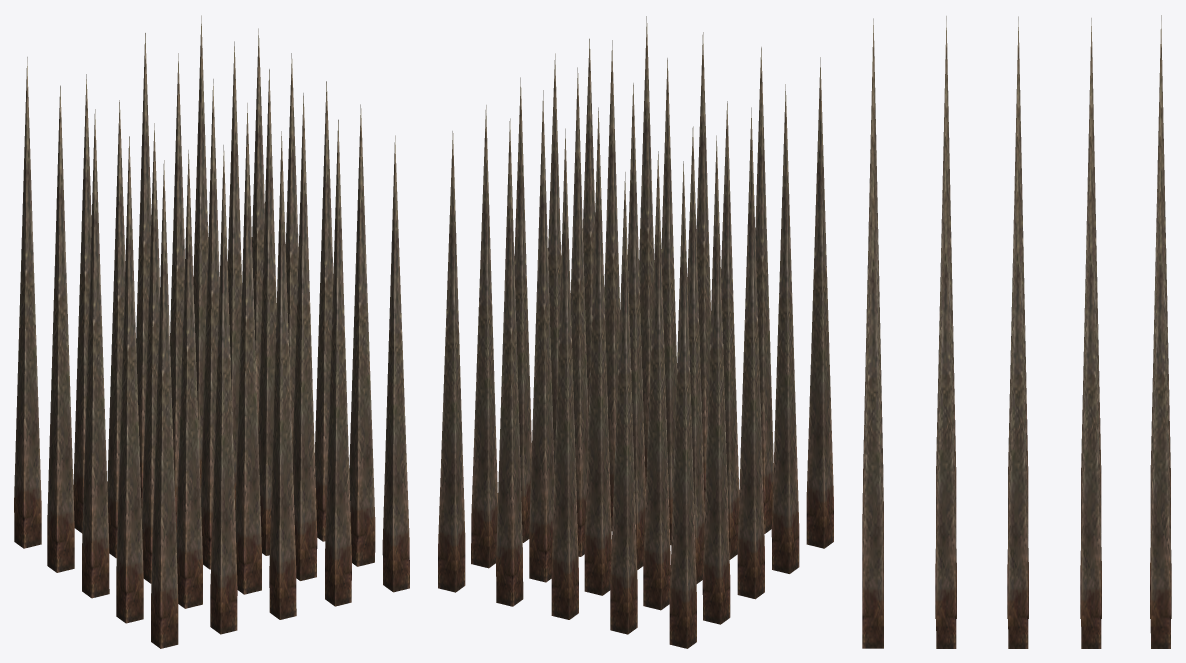
The model's file is SM_Spike_update.fbx.
3 views of the same model, side by side, from view 1: azimuth 30°, elevation 25°; view 2: azimuth 150°, elevation 25°; view 3: azimuth 270°, elevation 25° (orthographic). The views are drawn at different scales.
Parts seen in each view (by area): view 1: SM_Spike_update; view 2: SM_Spike_update; view 3: SM_Spike_update.
Boxes of the visible parts, box(x1,y1,x2,y2) form: SM_Spike_update: box(14, 15, 409, 648); SM_Spike_update: box(438, 16, 833, 648); SM_Spike_update: box(862, 15, 1171, 648).
Size of the model in its own units: 88.76 by 166 by 90.73.
